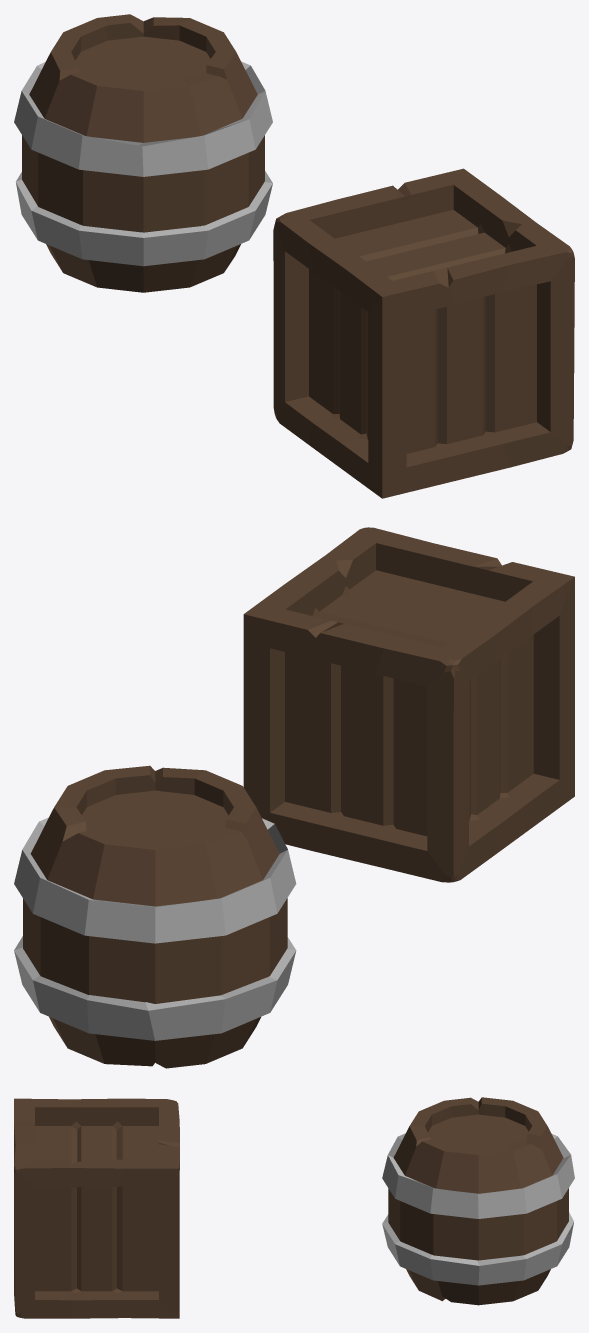
File: Barrel&Crate.fbx
3 views of the same model, one above another, from view 1: azimuth 30°, elevation 25°; view 2: azimuth 150°, elevation 25°; view 3: azimuth 270°, elevation 25° (orthographic). The views are drawn at different scales.
Parts seen in each view (by area): view 1: Crate, Barrel; view 2: Crate, Barrel; view 3: Crate, Barrel.
Boxes of the visible parts, x1,y1,x2,y2 form: Crate: (273,168,574,498); Barrel: (14,14,272,292); Crate: (243,527,574,882); Barrel: (14,765,296,1068); Crate: (14,1098,179,1318); Barrel: (382,1097,574,1305).
Bounding box in the file's own units: 145 × 121 × 406.
